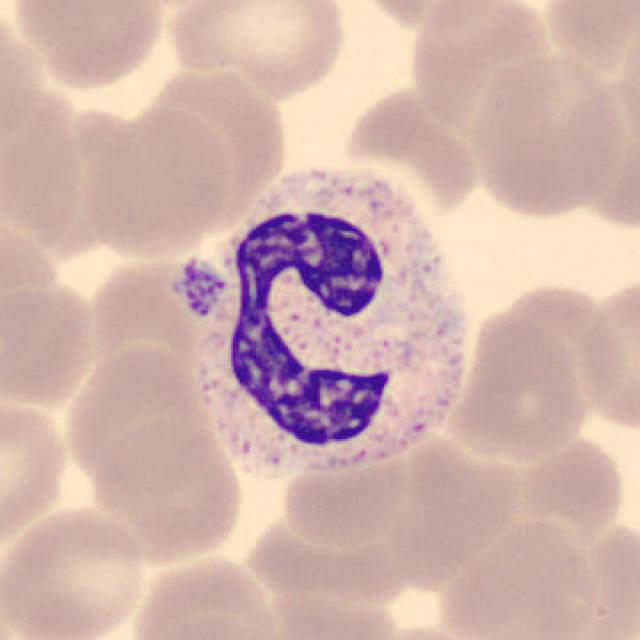Neutrophil: (201, 166, 483, 490)
Platelets: (169, 256, 233, 324)
RBC: (466, 49, 633, 222), (82, 413, 247, 564), (80, 102, 235, 261), (444, 306, 594, 464), (375, 427, 525, 578), (59, 339, 208, 490), (140, 66, 280, 218), (433, 515, 602, 640), (2, 502, 149, 640), (339, 81, 484, 215), (165, 0, 352, 97), (238, 506, 416, 603), (0, 259, 101, 412), (5, 0, 169, 92), (0, 77, 90, 242), (278, 444, 414, 550), (126, 552, 284, 640), (516, 430, 631, 536), (0, 392, 73, 554), (574, 272, 640, 436), (256, 589, 407, 640), (535, 2, 638, 76), (352, 0, 503, 33), (140, 610, 286, 640), (366, 622, 489, 640)
